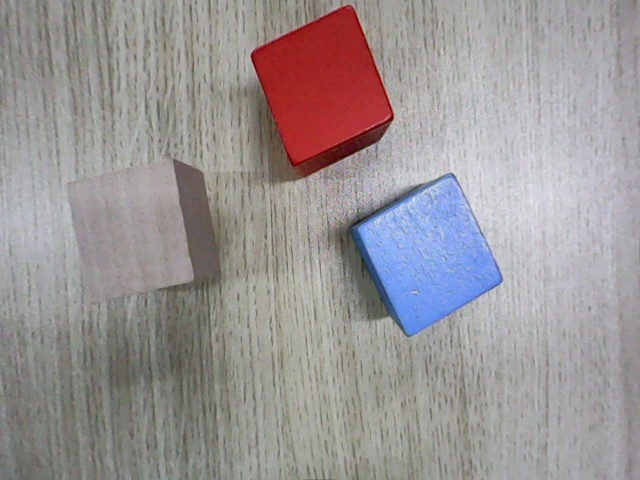upside of big cube: (354, 173, 503, 337), (251, 4, 395, 168), (64, 157, 195, 306)
